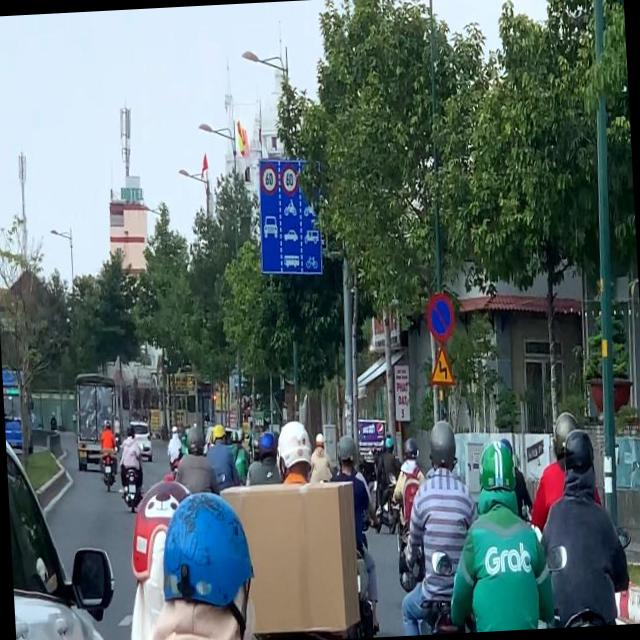P-131a: (425, 290, 456, 342)
W-202a: (426, 342, 456, 389)
